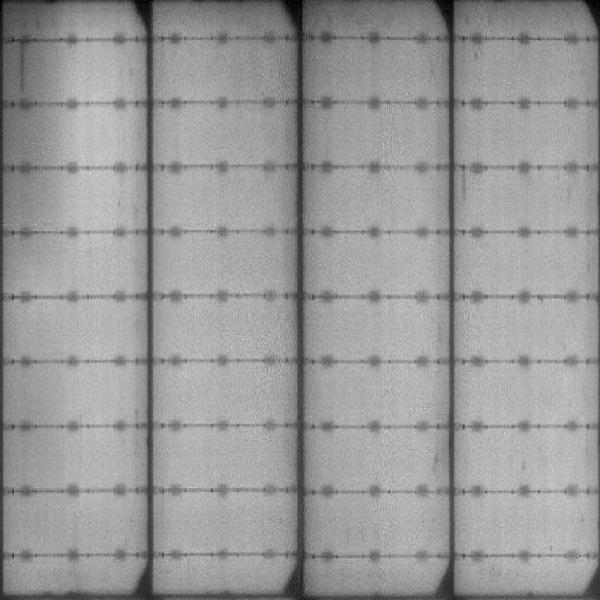scratch: (18, 42, 29, 92), (459, 165, 472, 206)
